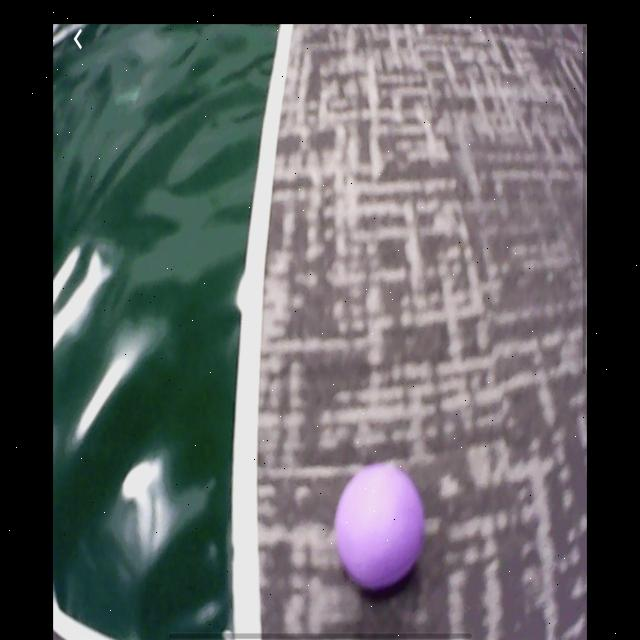ball: (337, 465, 425, 587)
